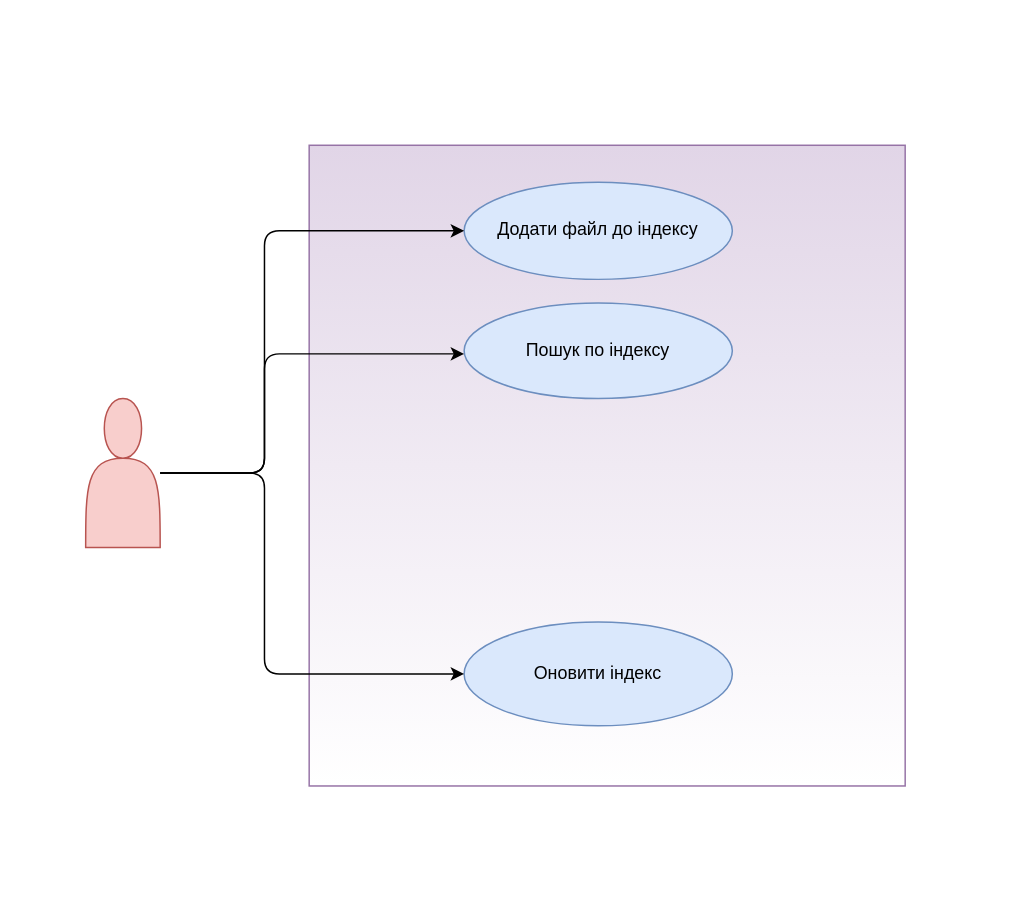
The diagram is 1019 pixels wide and 915 high, and some of its shapes have lost their labels. Here are the shapes that lost their labels. From the top down, the box of each, then its label:
(84, 397, 160, 548): Клієнт
(308, 144, 905, 786): Система інвертованого індексу
